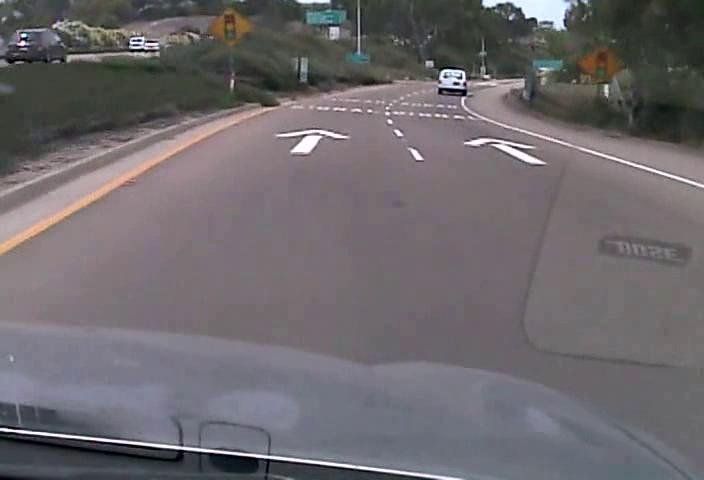signalAhead: (207, 4, 253, 46)
